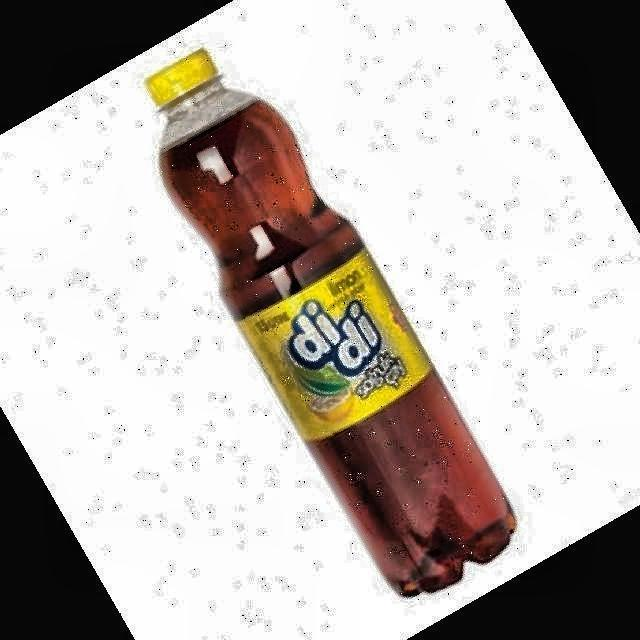plastic: (149, 52, 515, 596)
